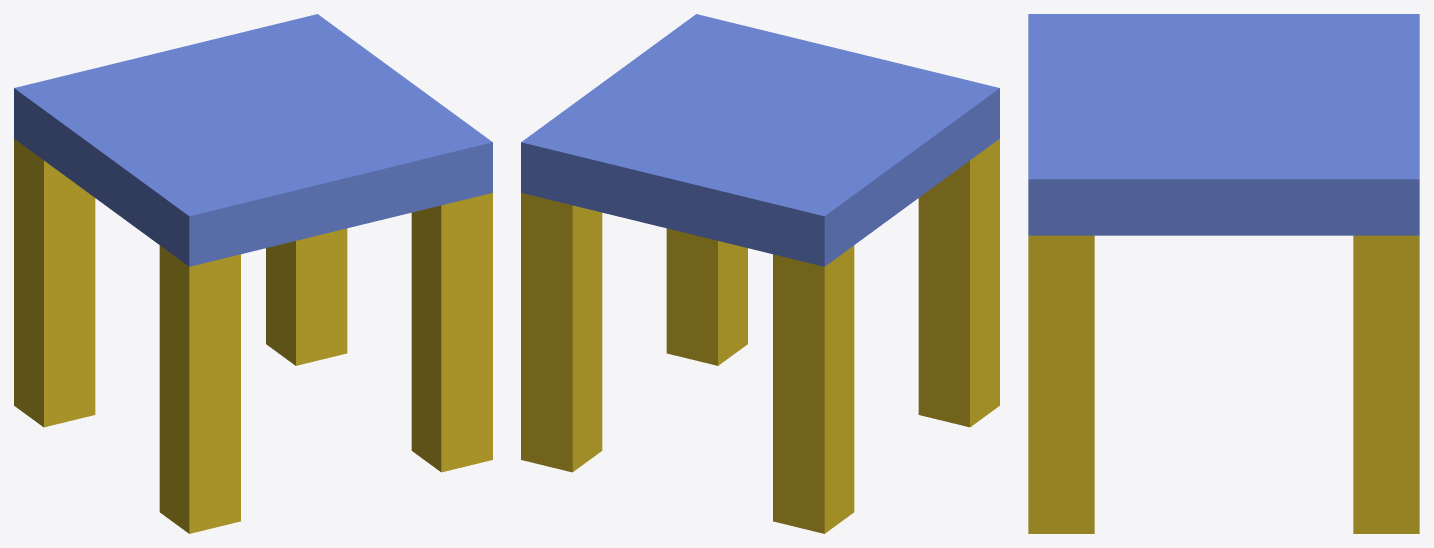
The model's file is Desk.fbx.
The picture shows the model from 3 angles, left to right: view 1: azimuth 30°, elevation 25°; view 2: azimuth 150°, elevation 25°; view 3: azimuth 270°, elevation 25°; orthographic projection. The views are drawn at different scales.
Parts seen in each view (by area): view 1: Cube; view 2: Cube; view 3: Cube.
Boxes of the visible parts, left/top/right/bottom form: Cube: left=14, top=14, right=492, bottom=533; Cube: left=521, top=14, right=999, bottom=533; Cube: left=1028, top=14, right=1419, bottom=533.
Size of the model in its own units: 200 by 200 by 200.
